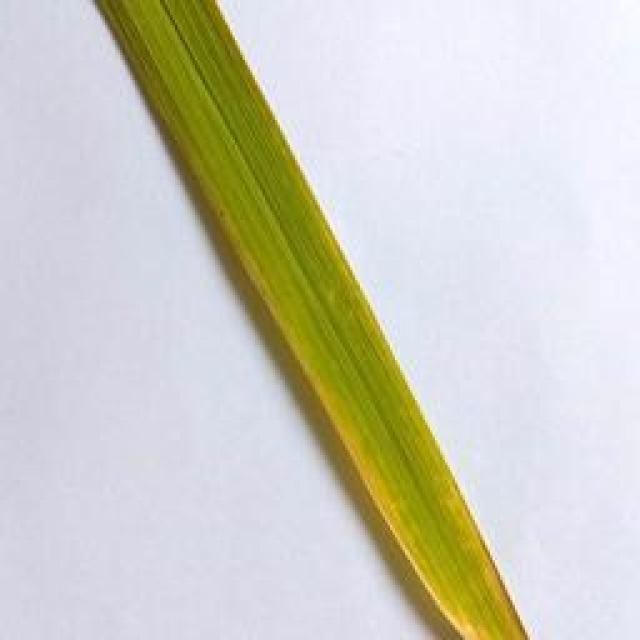Bacterial_Blight: (83, 0, 541, 640)
